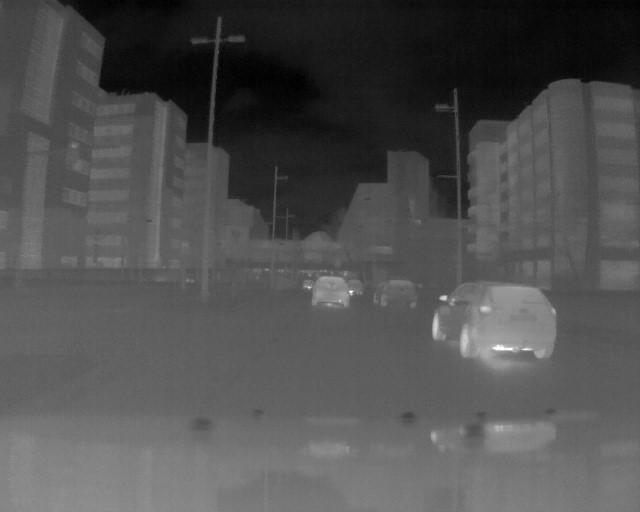car: (427, 279, 562, 363), (372, 279, 421, 309), (311, 275, 352, 310)
